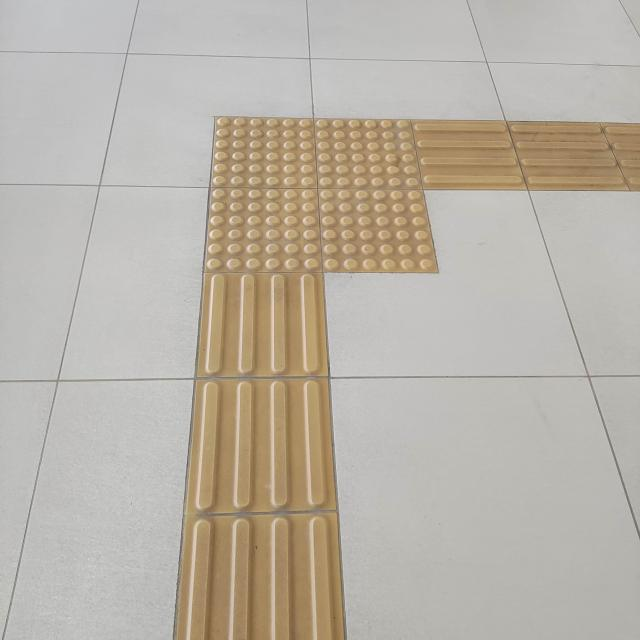kanan: (159, 76, 602, 311)
